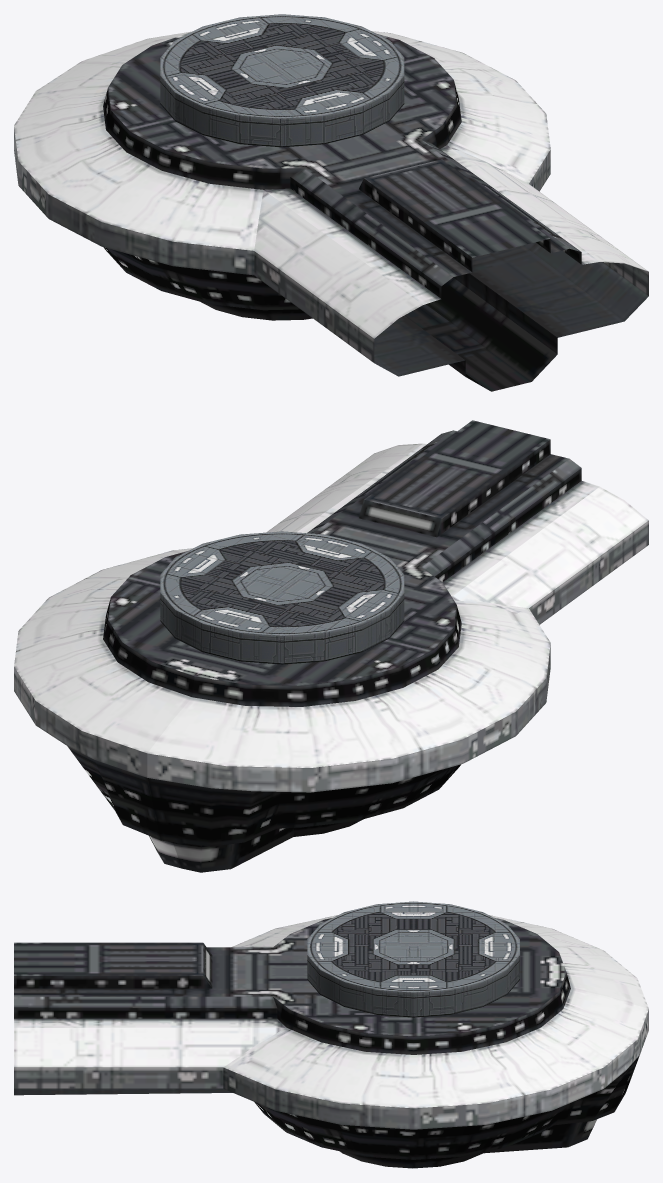
File: tgef_01_military_station_section_heavy.obj
3 renders of one model, top to bottom at view 1: azimuth 30°, elevation 25°; view 2: azimuth 150°, elevation 25°; view 3: azimuth 270°, elevation 25°, orthographic. The views are drawn at different scales.
Parts seen in each view (by area): view 1: humanoid_01_military_station_section_heavy|polySurface52|polySu, polySurface92Shape; view 2: humanoid_01_military_station_section_heavy|polySurface52|polySu, polySurface92Shape; view 3: humanoid_01_military_station_section_heavy|polySurface52|polySu, polySurface92Shape.
Part boxes in pixels (box(x1,y1,x2,y2)): humanoid_01_military_station_section_heavy|polySurface52|polySu: box(14, 31, 648, 391); polySurface92Shape: box(160, 14, 404, 147); humanoid_01_military_station_section_heavy|polySurface52|polySu: box(14, 420, 648, 872); polySurface92Shape: box(160, 531, 404, 664); humanoid_01_military_station_section_heavy|polySurface52|polySu: box(14, 915, 648, 1168); polySurface92Shape: box(307, 901, 519, 1017).
Size of the model in its own units: 5.98e-05 by 2.59e-05 by 8.06e-05.
